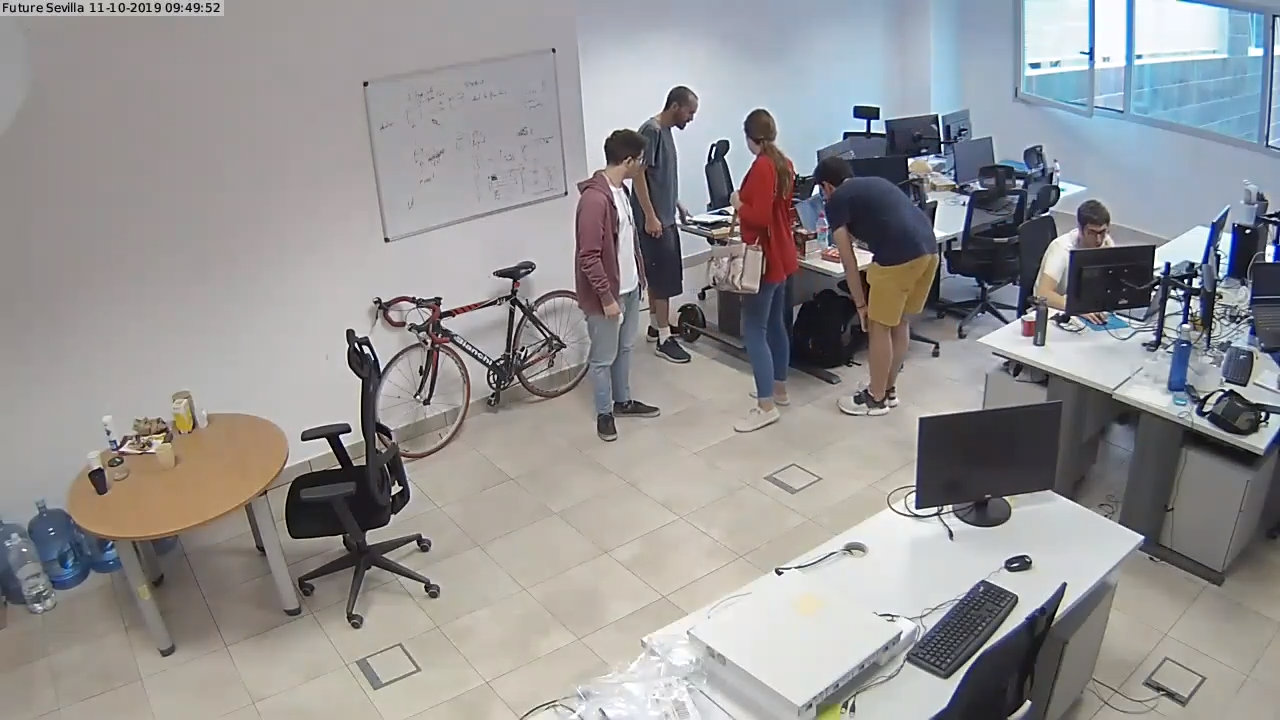head: (596, 124, 655, 186), (1069, 193, 1119, 256), (656, 77, 702, 142), (740, 102, 785, 161), (809, 152, 858, 199)
